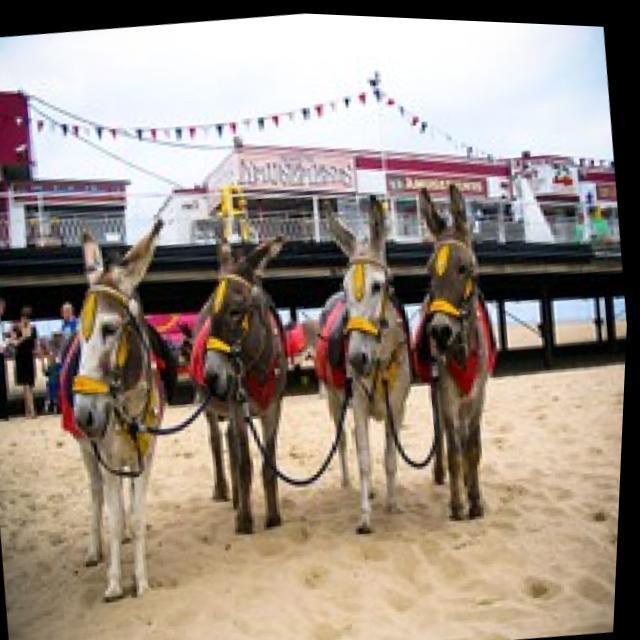Donkey: (39, 208, 213, 604), (289, 185, 441, 537), (170, 224, 322, 536), (396, 170, 520, 520)
